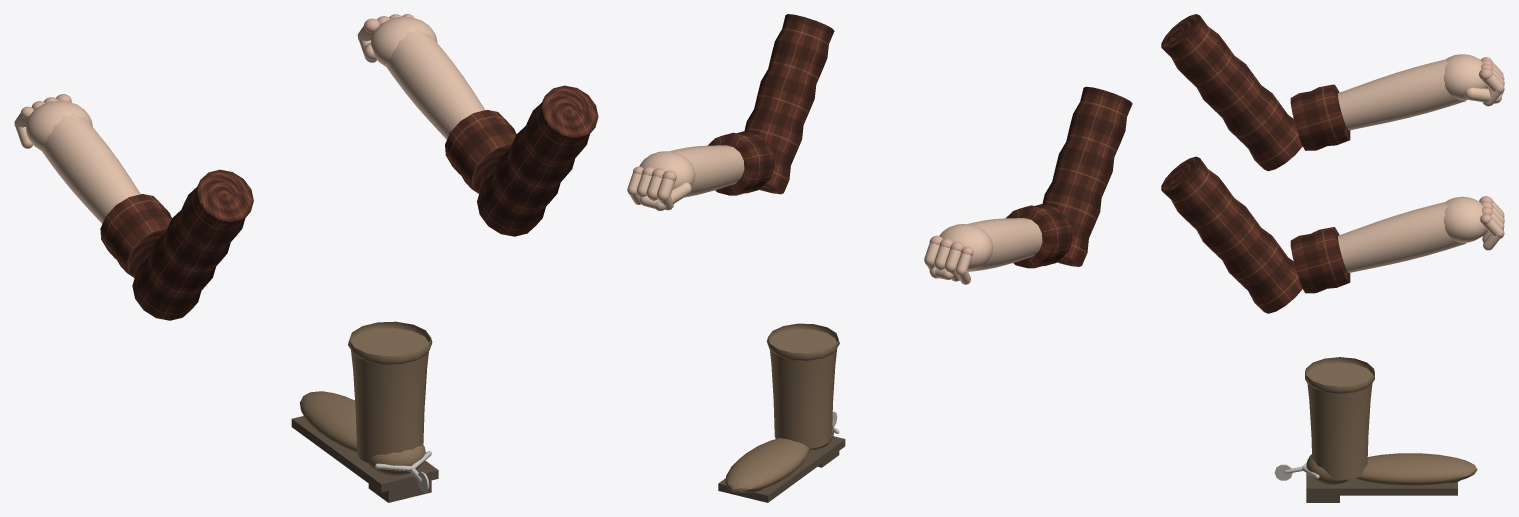
File: fp-fight.glb
The picture shows the model from 3 angles, left to right: view 1: azimuth 30°, elevation 25°; view 2: azimuth 150°, elevation 25°; view 3: azimuth 270°, elevation 25°; orthographic projection. The views are drawn at different scales.
Visible parts, largest first — view 1: boot, upper_L, upper_R, fore_R, fore_L, fist_R_skin, fist_L_skin; view 2: boot, upper_L, upper_R, fore_L, fore_R, fist_R_skin, fist_L_skin; view 3: boot, upper_R, upper_L, fore_R, fore_L, fist_R_skin, fist_L_skin.
Part boxes in pixels (x1=…): boot: x1=291, y1=321, x2=438, y2=502; upper_L: x1=132, y1=169, x2=253, y2=320; upper_R: x1=477, y1=85, x2=598, y2=236; fore_R: x1=386, y1=28, x2=516, y2=193; fore_L: x1=41, y1=112, x2=171, y2=277; fist_R_skin: x1=357, y1=16, x2=437, y2=66; fist_L_skin: x1=14, y1=100, x2=92, y2=150; boot: x1=718, y1=323, x2=845, y2=502; upper_L: x1=1042, y1=86, x2=1132, y2=266; upper_R: x1=744, y1=14, x2=834, y2=194; fore_L: x1=967, y1=204, x2=1072, y2=271; fore_R: x1=669, y1=131, x2=774, y2=197; fist_R_skin: x1=627, y1=151, x2=695, y2=211; fist_L_skin: x1=924, y1=224, x2=993, y2=284; boot: x1=1274, y1=357, x2=1477, y2=502; upper_R: x1=1161, y1=156, x2=1302, y2=313; upper_L: x1=1161, y1=14, x2=1302, y2=171; fore_R: x1=1290, y1=201, x2=1466, y2=293; fore_L: x1=1290, y1=58, x2=1466, y2=150; fist_R_skin: x1=1443, y1=196, x2=1504, y2=250; fist_L_skin: x1=1443, y1=54, x2=1504, y2=106.
Bounding box in the file's own units: 0.7103 × 0.7248 × 0.6104.
Materials: 6 (1 with a texture image).
